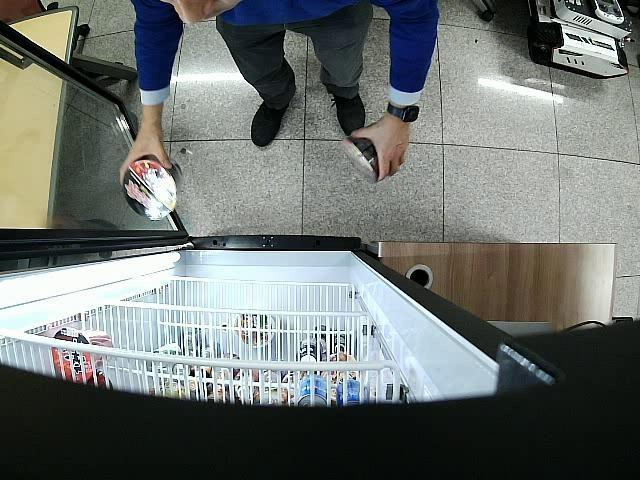07_buldak_L: (124, 158, 182, 220), (341, 121, 386, 182)
